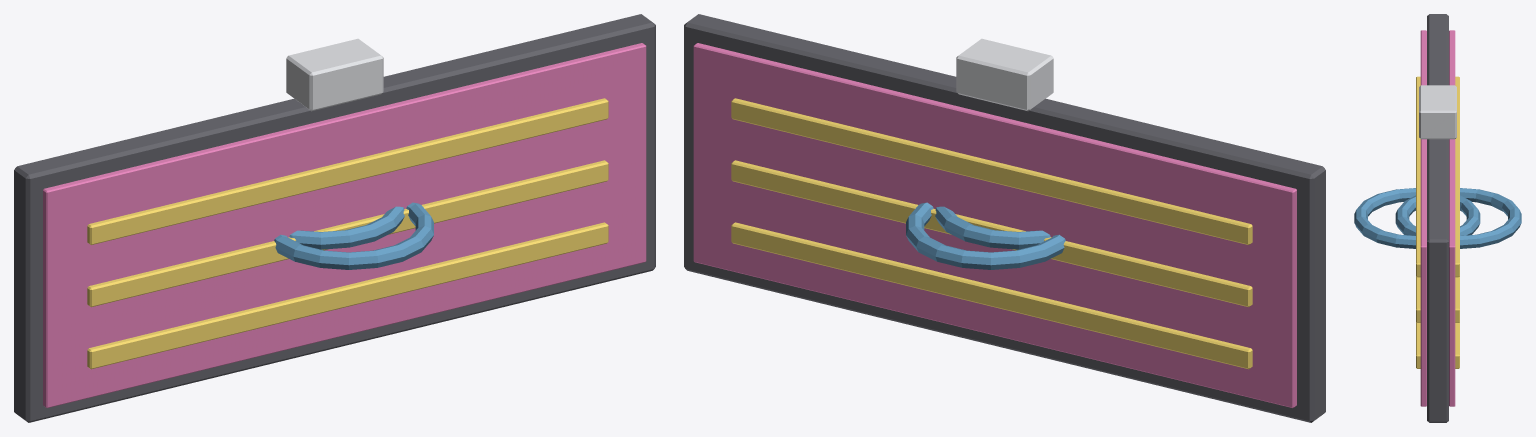
The model's file is amusement-arcade-and-seaside-pier-arcade-sign-panel-ab420b49__35416.glb.
3 views of the same model, side by side, from view 1: azimuth 30°, elevation 25°; view 2: azimuth 150°, elevation 25°; view 3: azimuth 270°, elevation 25° (orthographic). The views are drawn at different scales.
Visible parts, largest first — view 1: arcade-sign-panel; view 2: arcade-sign-panel; view 3: arcade-sign-panel.
Boxes of the visible parts, box(x1,y1,x2,y2) form: arcade-sign-panel: box(14, 14, 655, 422); arcade-sign-panel: box(684, 14, 1325, 422); arcade-sign-panel: box(1354, 14, 1521, 422).
Size of the model in its own units: 1.7 by 0.74 by 0.5279.
